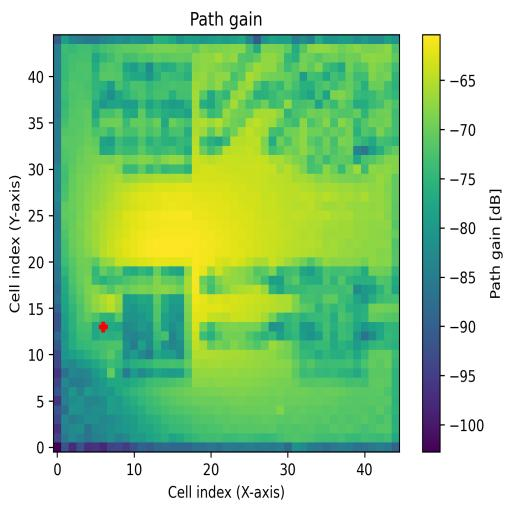Concrete: (301, 63, 375, 175)
Glass: (124, 62, 192, 174)
Metal: (294, 268, 368, 387)
Wood: (123, 267, 191, 386)
